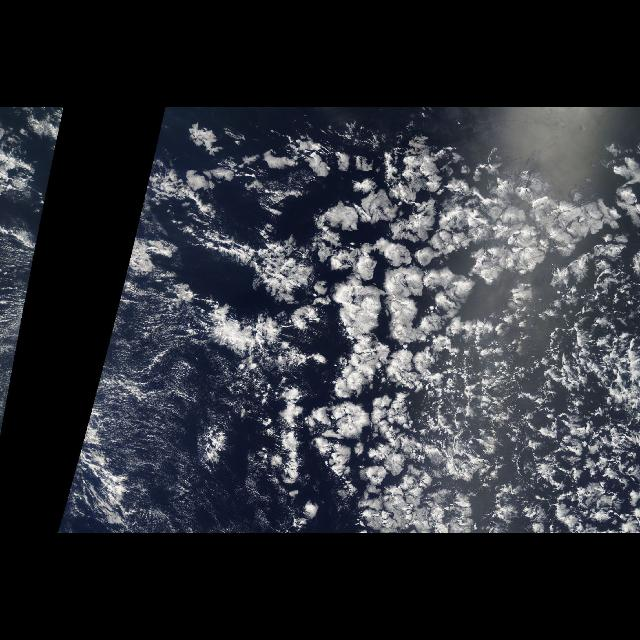Flower: (238, 117, 614, 489)
Sugar: (56, 241, 238, 533), (1, 241, 38, 429)
